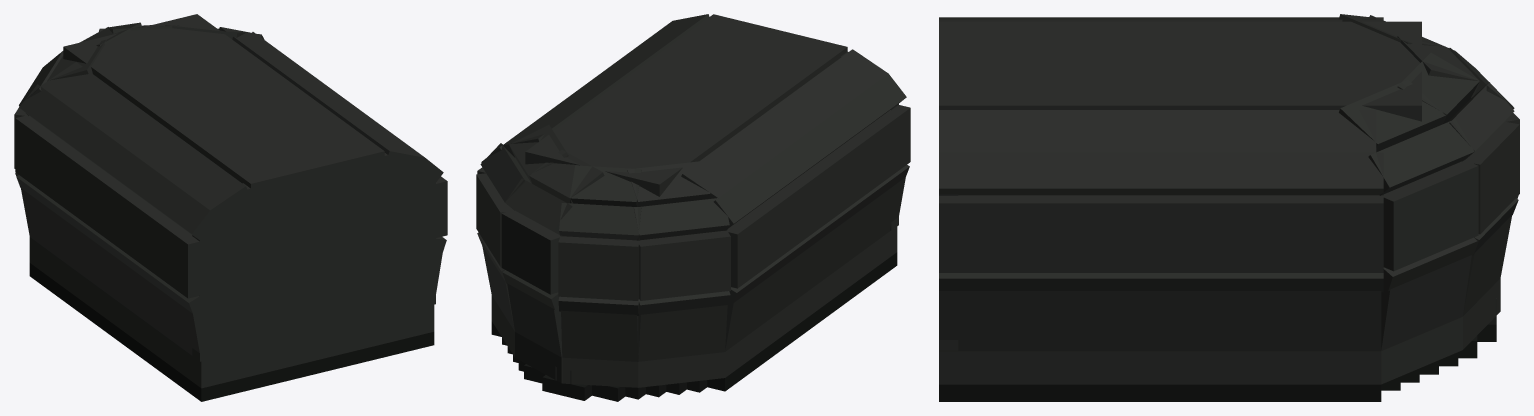
Rendered from jiashicang.gltf.
3 views of the same model, side by side, from view 1: azimuth 30°, elevation 25°; view 2: azimuth 150°, elevation 25°; view 3: azimuth 270°, elevation 25° (orthographic). The views are drawn at different scales.
Visible parts, largest first — view 1: Overhead (×8), Aft Bulkhead (×6), Bulkhead (×7), Base; view 2: Bulkhead (×19), Overhead (×13), Base (×3); view 3: Bulkhead (×12), Overhead (×11), Base.
Part boxes in pixels (x1=…): Overhead (×8): x1=19, y1=14, x2=425, y2=240; Aft Bulkhead (×6): x1=192, y1=153, x2=435, y2=385; Bulkhead (×7): x1=15, y1=115, x2=447, y2=388; Base: x1=29, y1=263, x2=434, y2=401; Bulkhead (×19): x1=476, y1=105, x2=910, y2=387; Overhead (×13): x1=480, y1=14, x2=906, y2=240; Base (×3): x1=491, y1=252, x2=897, y2=401; Bulkhead (×12): x1=939, y1=122, x2=1519, y2=384; Overhead (×11): x1=939, y1=14, x2=1514, y2=195; Base: x1=939, y1=384, x2=1381, y2=401.
Bounding box in the file's own units: 10.04 × 7.68 × 15.1.
Materials: 1 (1 with a texture image).
